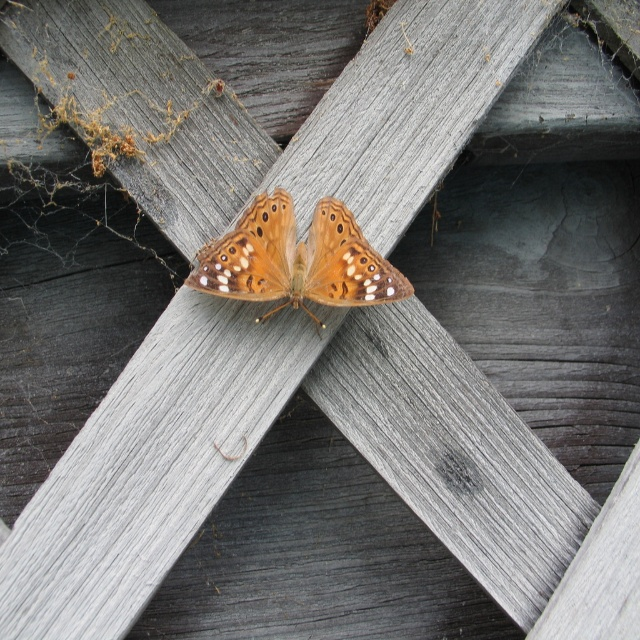Butterfly: (183, 175, 418, 340)
